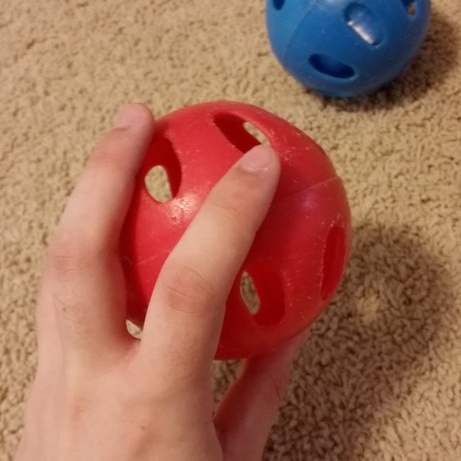ball: (86, 98, 356, 364), (256, 0, 437, 101)
